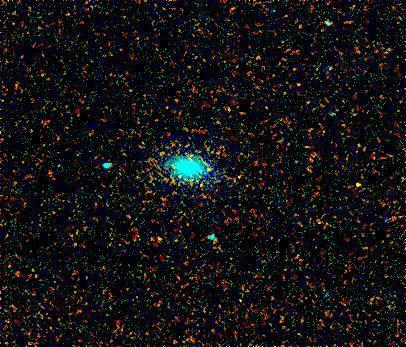star: (345, 172, 375, 202)
